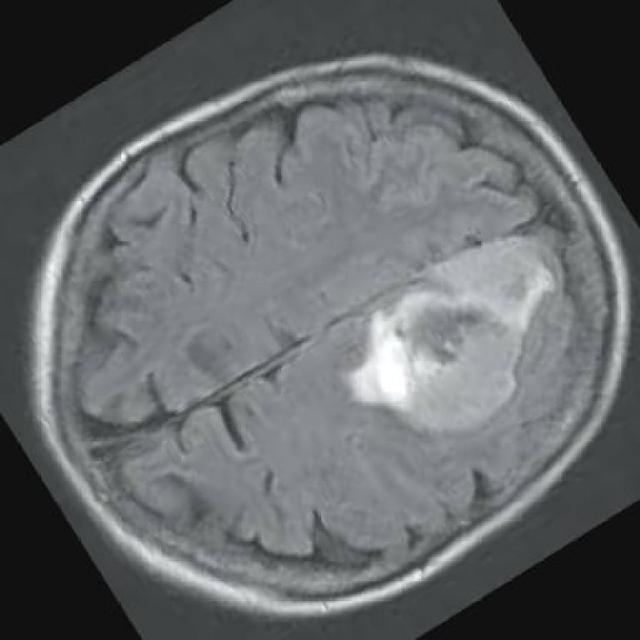Brain-Tumor: (344, 244, 584, 454)
